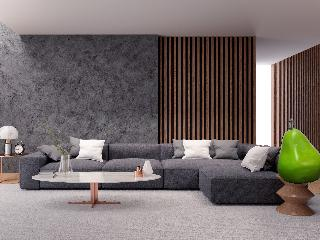pear: (278, 118, 320, 184)
